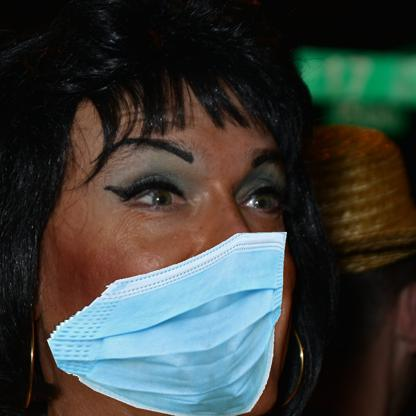mask: (41, 227, 290, 416)
